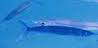sayori: (20, 18, 98, 39)
